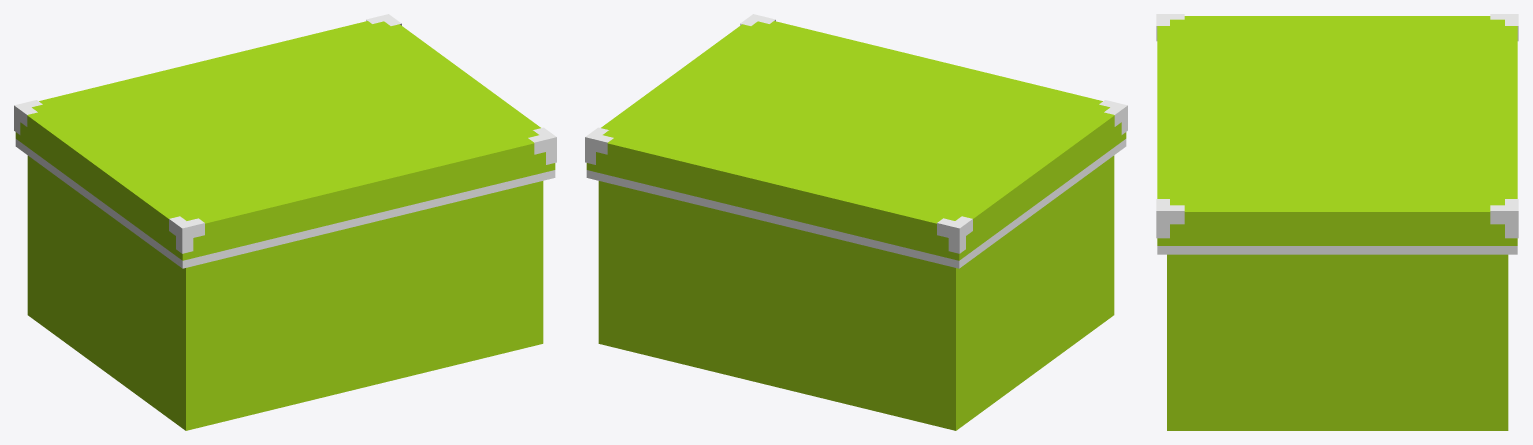
File: Box_Green.FBX
3 views of the same model, side by side, from view 1: azimuth 30°, elevation 25°; view 2: azimuth 150°, elevation 25°; view 3: azimuth 270°, elevation 25° (orthographic). The views are drawn at different scales.
Visible parts, largest first — view 1: Box_Green; view 2: Box_Green; view 3: Box_Green.
Part boxes in pixels (x1,y1,x2,y2): Box_Green: (14,14,556,430); Box_Green: (585,14,1127,430); Box_Green: (1156,14,1518,430).
Size of the model in its own units: 0.6362 by 0.3378 by 0.4947.
